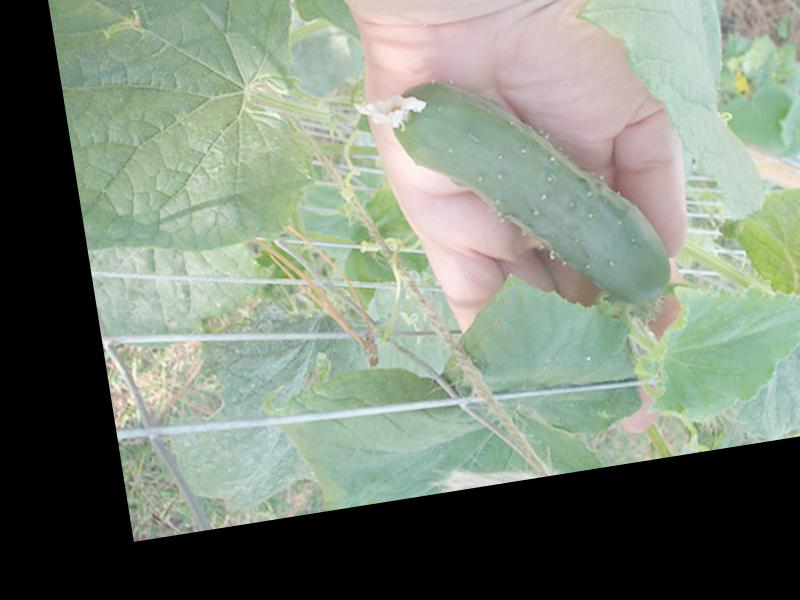Cucumber: (350, 50, 673, 343)
